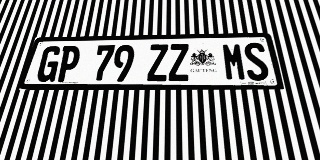7: (91, 45, 115, 82)
9: (111, 45, 135, 82)
G: (35, 46, 63, 82)
M: (221, 43, 247, 81)
P: (55, 46, 82, 82)
S: (242, 42, 271, 81)
Z: (147, 44, 168, 81), (169, 44, 190, 81)
